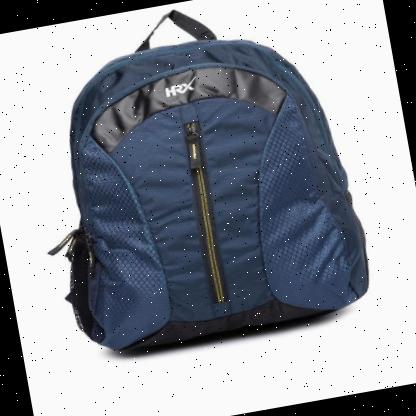bag: (11, 0, 382, 372)
